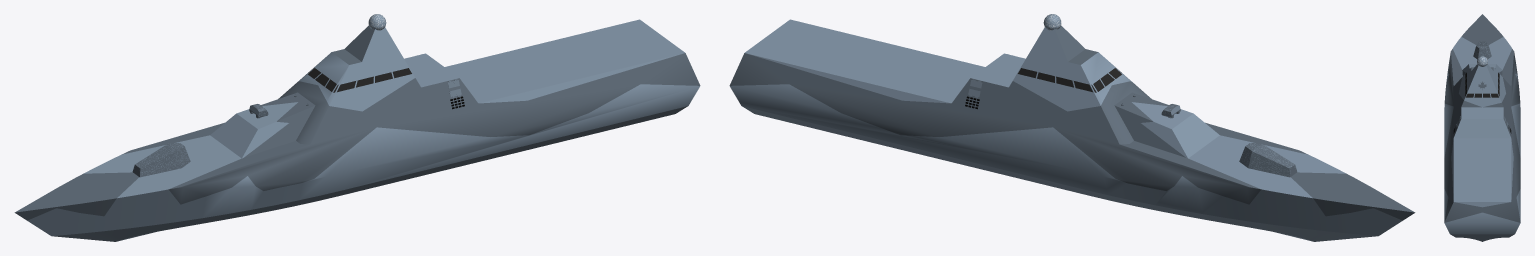
File: stealth.dae
The picture shows the model from 3 angles, left to right: view 1: azimuth 30°, elevation 25°; view 2: azimuth 150°, elevation 25°; view 3: azimuth 270°, elevation 25°; orthographic projection. The views are drawn at different scales.
Parts seen in each view (by area): view 1: Model; view 2: Model; view 3: Model.
Part boxes in pixels (x1=…): Model: x1=14, y1=14, x2=700, y2=241; Model: x1=729, y1=14, x2=1415, y2=241; Model: x1=1444, y1=14, x2=1520, y2=241.
Bounding box in the file's own units: 3076 × 491 × 732.
